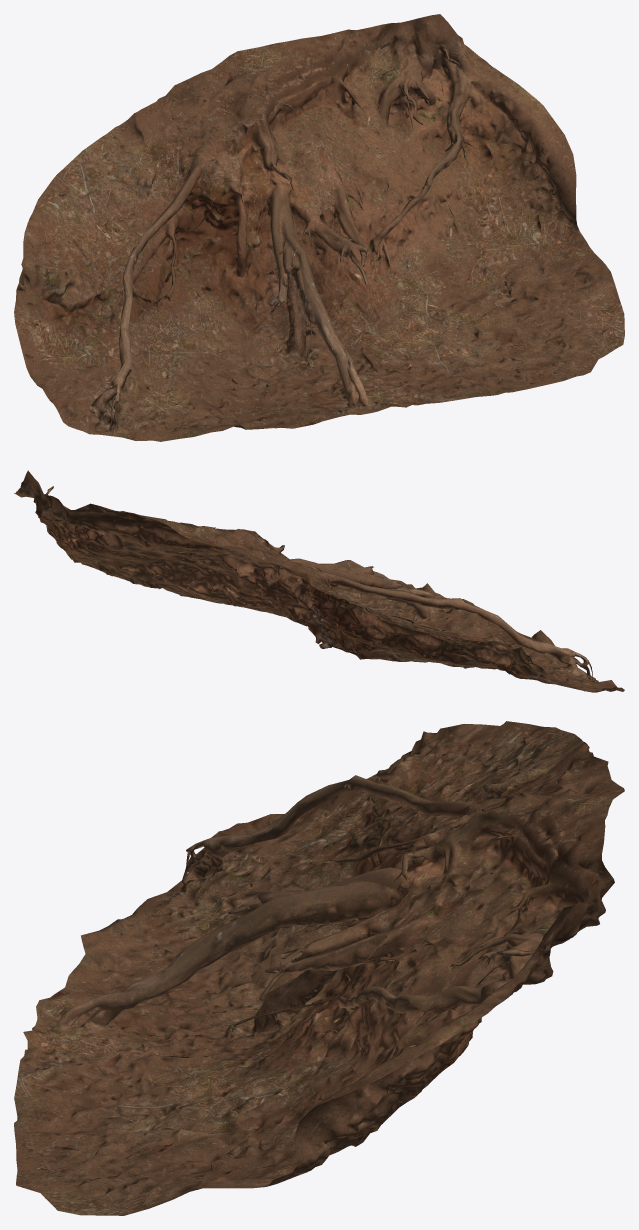
File: root_cluster_01_lod2.glb
3 renders of one model, top to bottom at view 1: azimuth 30°, elevation 25°; view 2: azimuth 150°, elevation 25°; view 3: azimuth 270°, elevation 25°, orthographic. The views are drawn at different scales.
Parts seen in each view (by area): view 1: root_cluster_01; view 2: root_cluster_01; view 3: root_cluster_01.
Part boxes in pixels (box(x1,y1,x2,y2)): root_cluster_01: box(14, 14, 624, 441); root_cluster_01: box(14, 470, 624, 692); root_cluster_01: box(14, 721, 624, 1215).
Size of the model in its own units: 4.12 by 1.51 by 2.68.
Materials: 1 (1 with a texture image).
